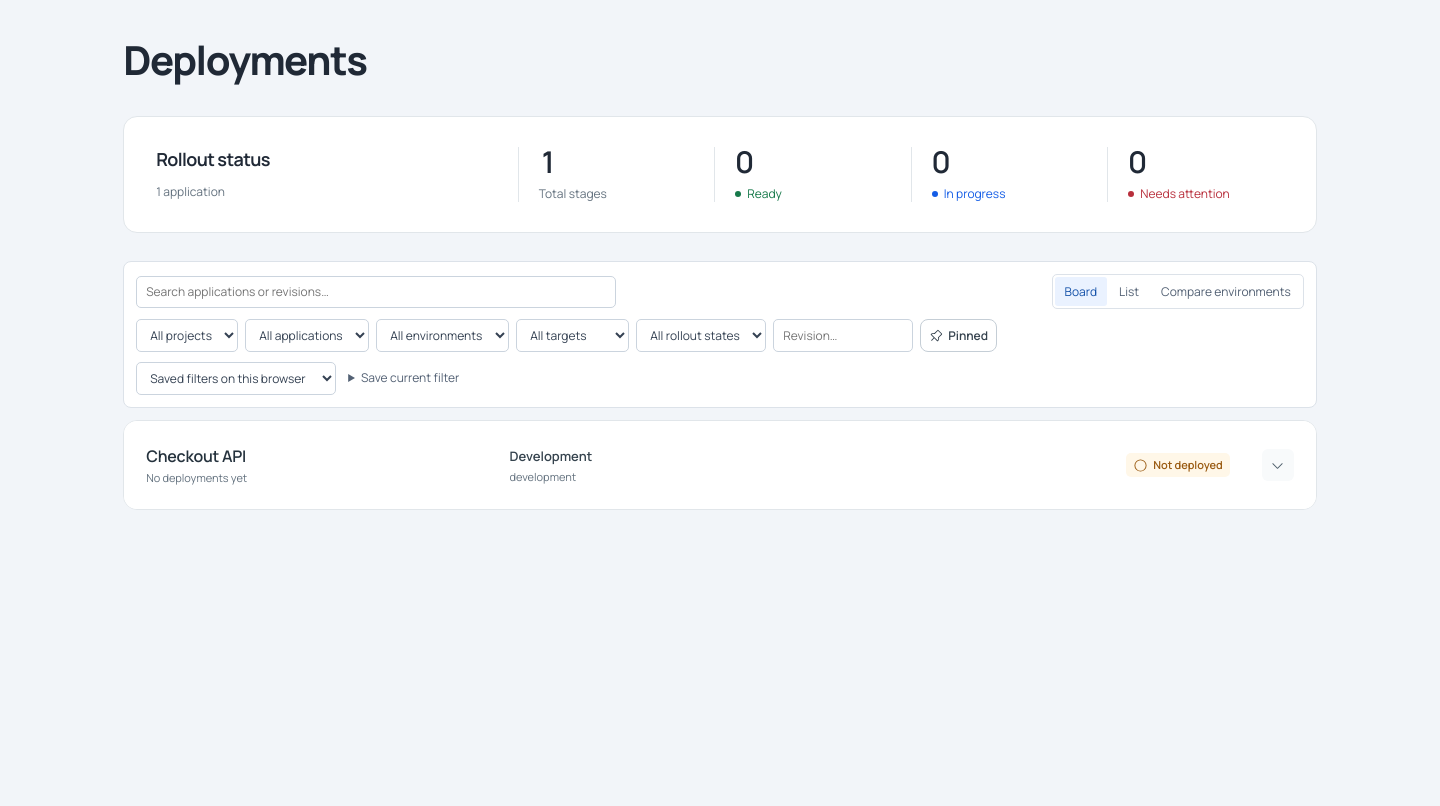
Test: deployment navigation › opens details directly for an environment without a deployment
The width and height of the screenshot is (1440, 806).
Click the button with aria-label "Inspect Checkout API Development stage": (551, 456) [502,440,1238,490]
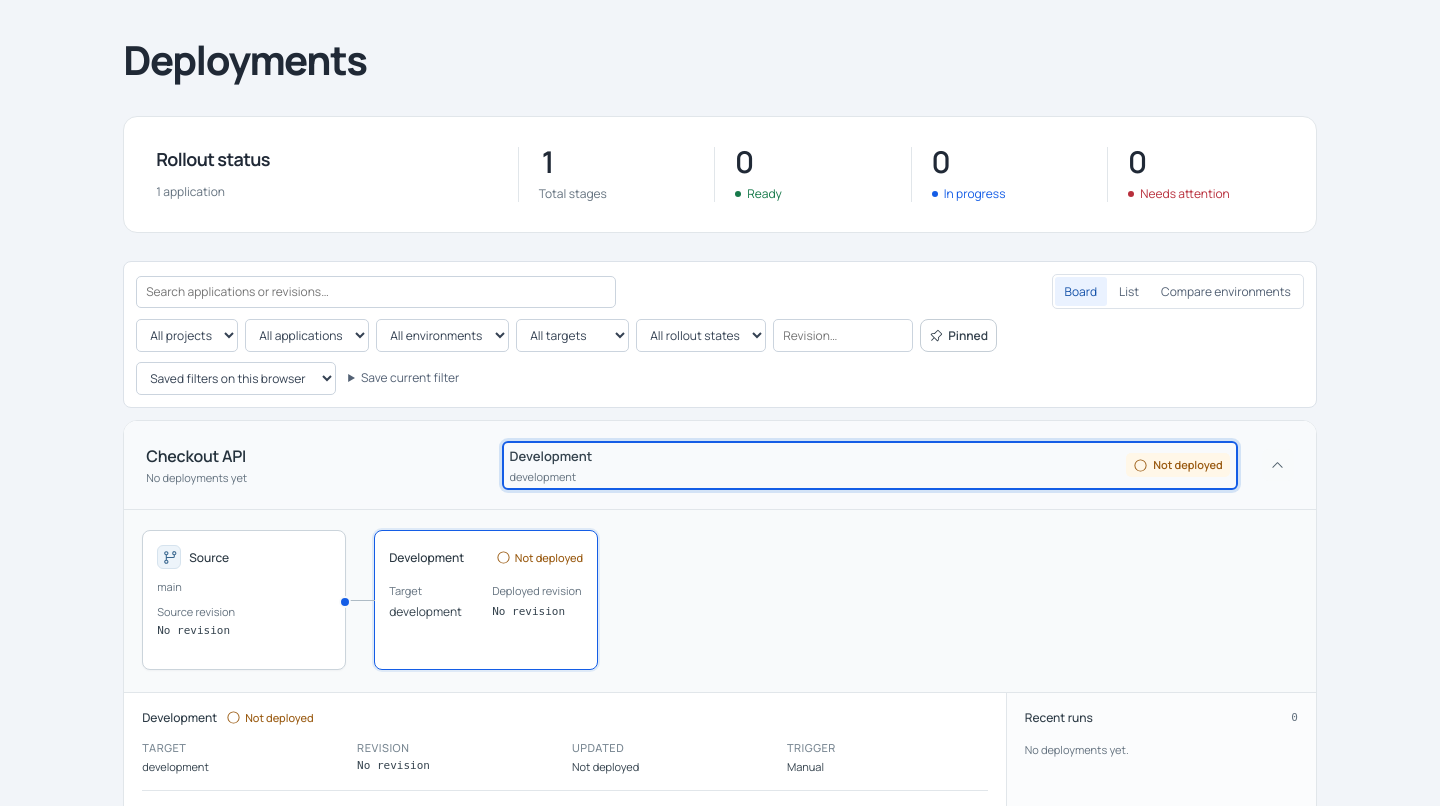
Check: the element named "Checkout API promotion stages" is shown, box [124,509,1316,693]
Check: the text "No deployments yet." is shown, box [1025,742,1129,757]
